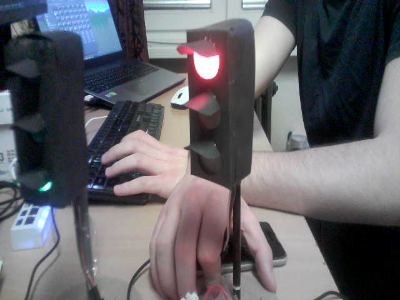trafficlight_green: (17, 38, 66, 199)
trafficlight_red: (187, 30, 232, 176)
